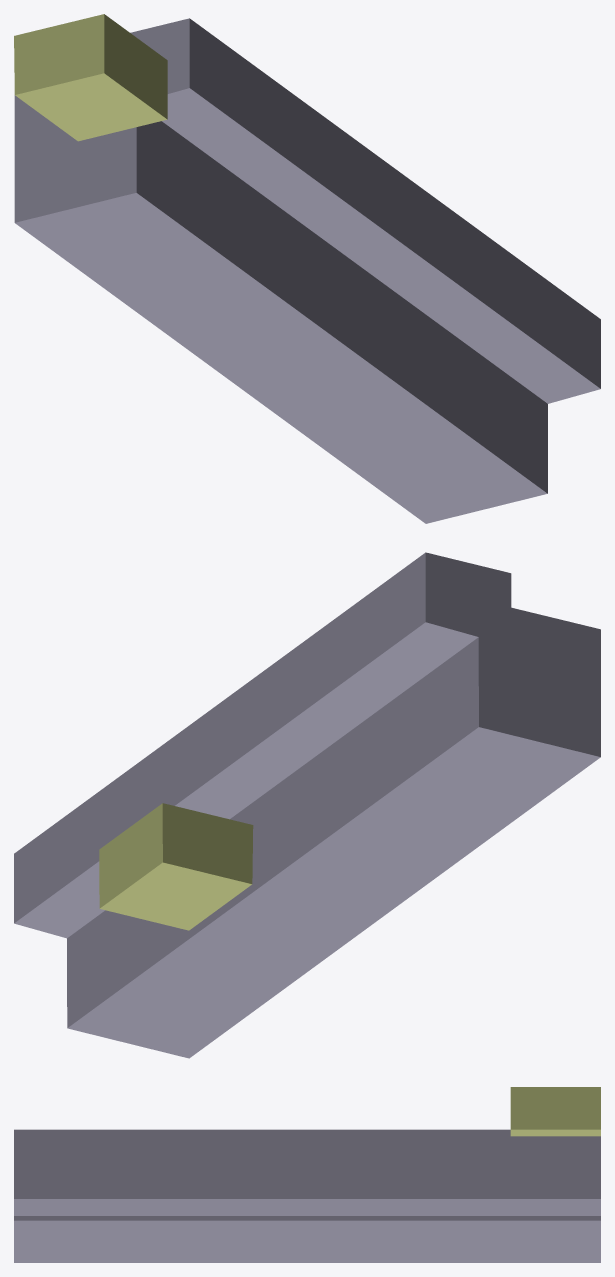
3 views of the same model, one above another, from view 1: azimuth 30°, elevation 25°; view 2: azimuth 150°, elevation 25°; view 3: azimuth 270°, elevation 25° (orthographic). The views are drawn at different scales.
Parts seen in each view (by area): view 1: 0_2_0_1_2_1_2_3_0_3_2; view 2: 0_2_0_1_2_1_2_3_0_3_2; view 3: 0_2_0_1_2_1_2_3_0_3_2.
Boxes of the visible parts, left/top/right/bottom form: 0_2_0_1_2_1_2_3_0_3_2: left=14, top=14, right=600, bottom=523; 0_2_0_1_2_1_2_3_0_3_2: left=14, top=552, right=600, bottom=1058; 0_2_0_1_2_1_2_3_0_3_2: left=14, top=1087, right=600, bottom=1262.
Size of the model in its own units: 9.62 by 9.79 by 39.
